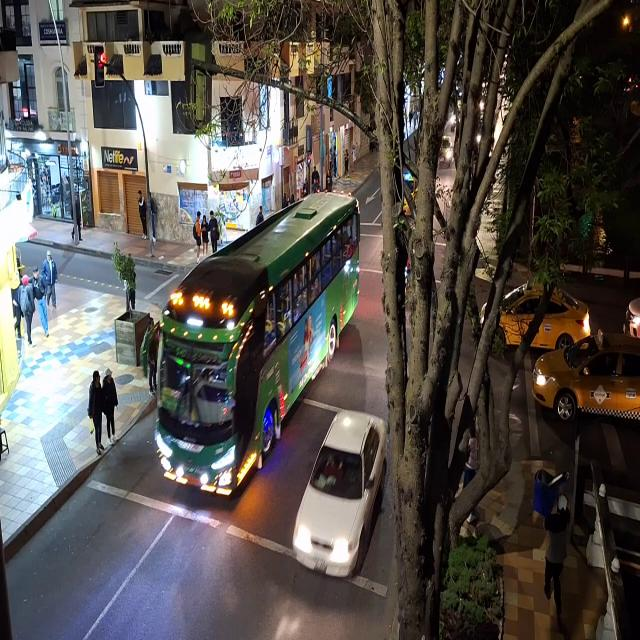BUS: (154, 266, 278, 498)
SED: (294, 413, 386, 572), (532, 334, 638, 416), (483, 282, 593, 347)
